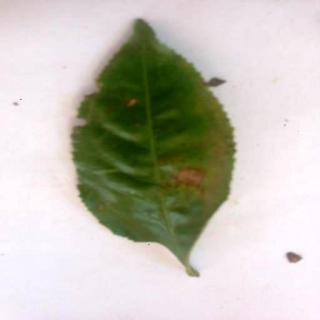Brown Blight: (74, 19, 238, 281)
